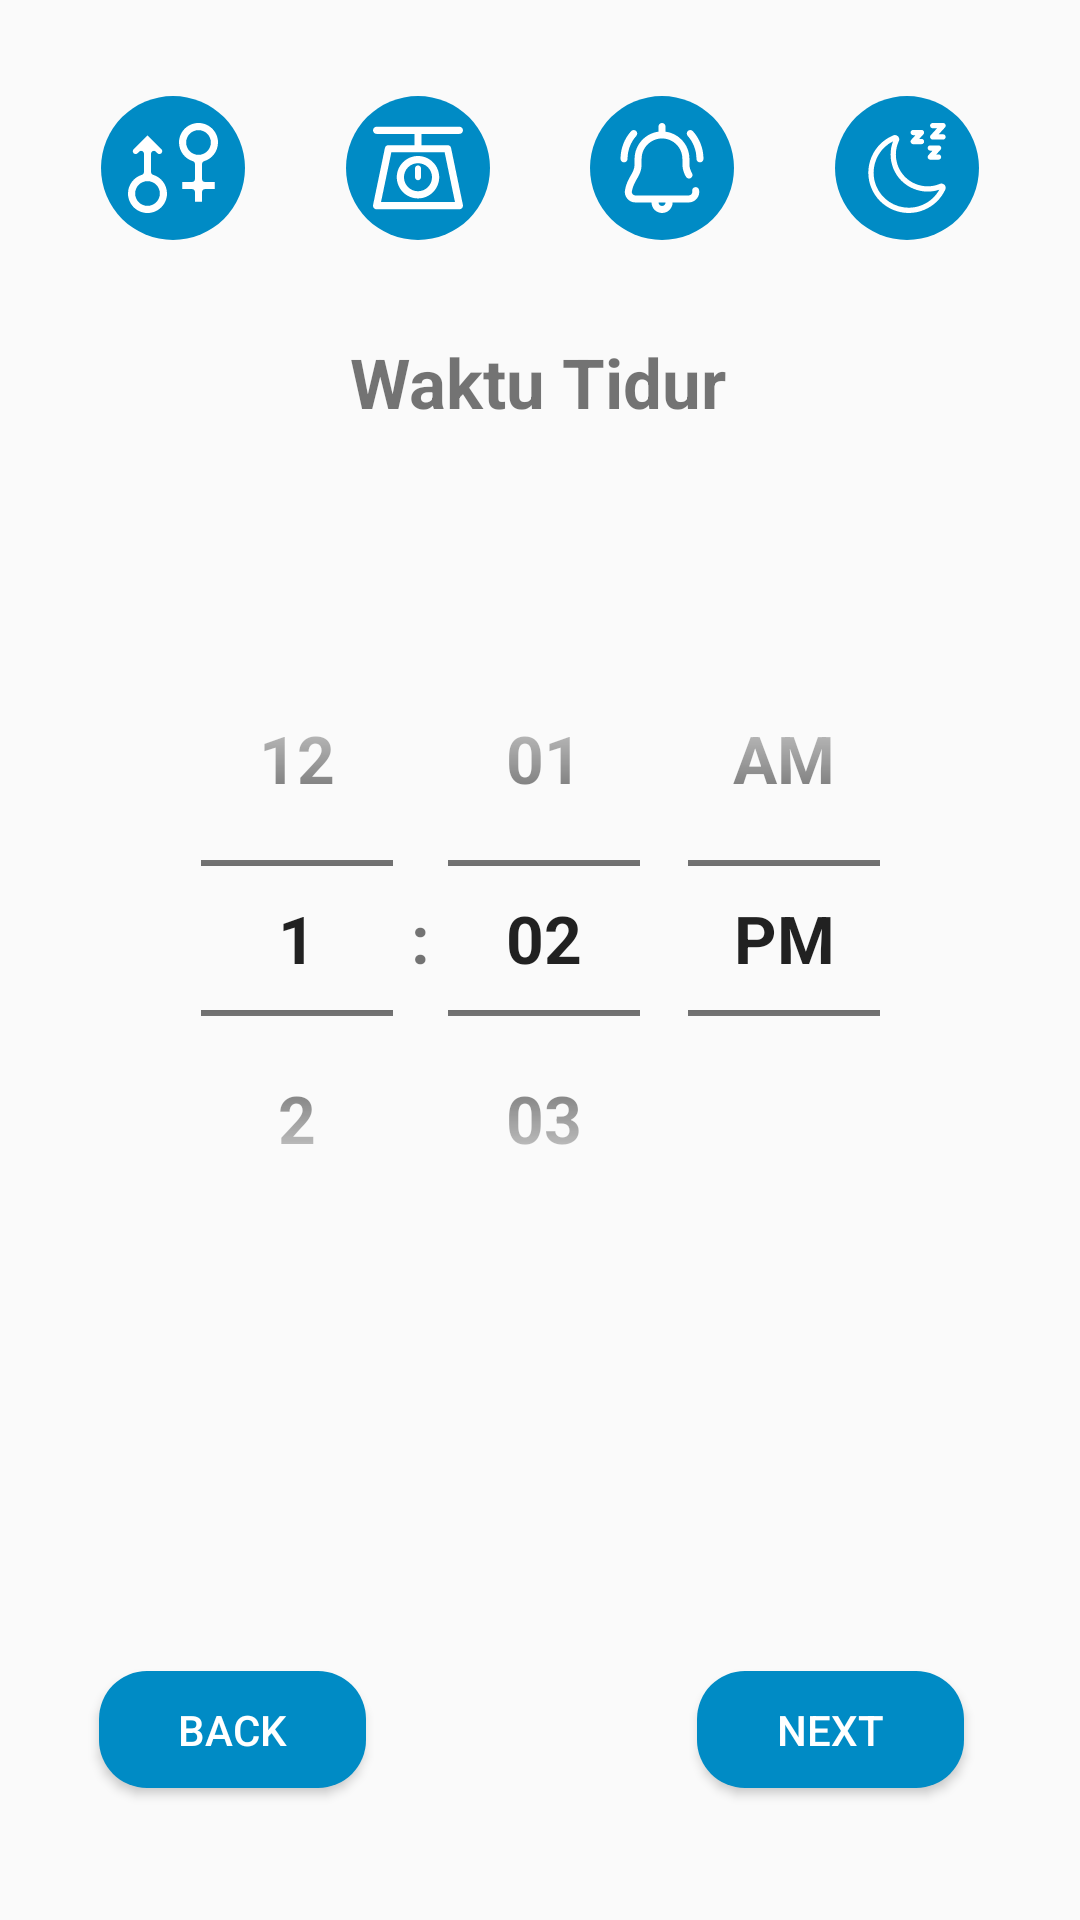

Icons on this 1080px×1920px Android screen, each with the point to tap as (x,y):
alarm: (662,168)
gender symbols: (173,168)
scale: (418,168)
sleep: (907,168)
